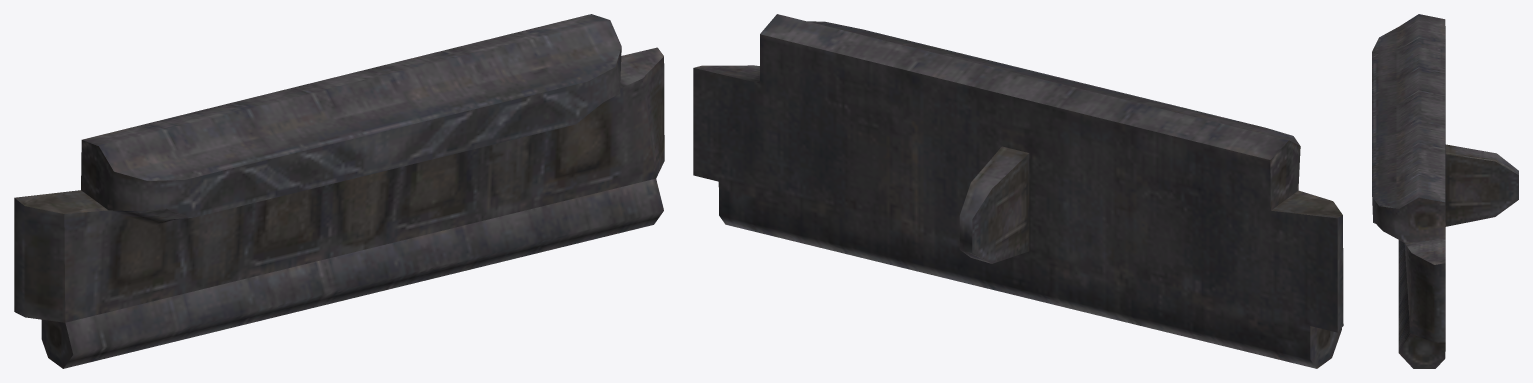
3 views of the same model, side by side, from view 1: azimuth 30°, elevation 25°; view 2: azimuth 150°, elevation 25°; view 3: azimuth 270°, elevation 25° (orthographic). The views are drawn at different scales.
Visible parts, largest first — view 1: set_0_group_0; view 2: set_0_group_0; view 3: set_0_group_0.
Part boxes in pixels (x1,y1,x2,y2): set_0_group_0: [14, 14, 664, 368]; set_0_group_0: [693, 14, 1343, 368]; set_0_group_0: [1372, 14, 1518, 368].
Size of the model in its own units: 0.46 by 0.1448 by 0.1227.
Materials: 1 (1 with a texture image).
